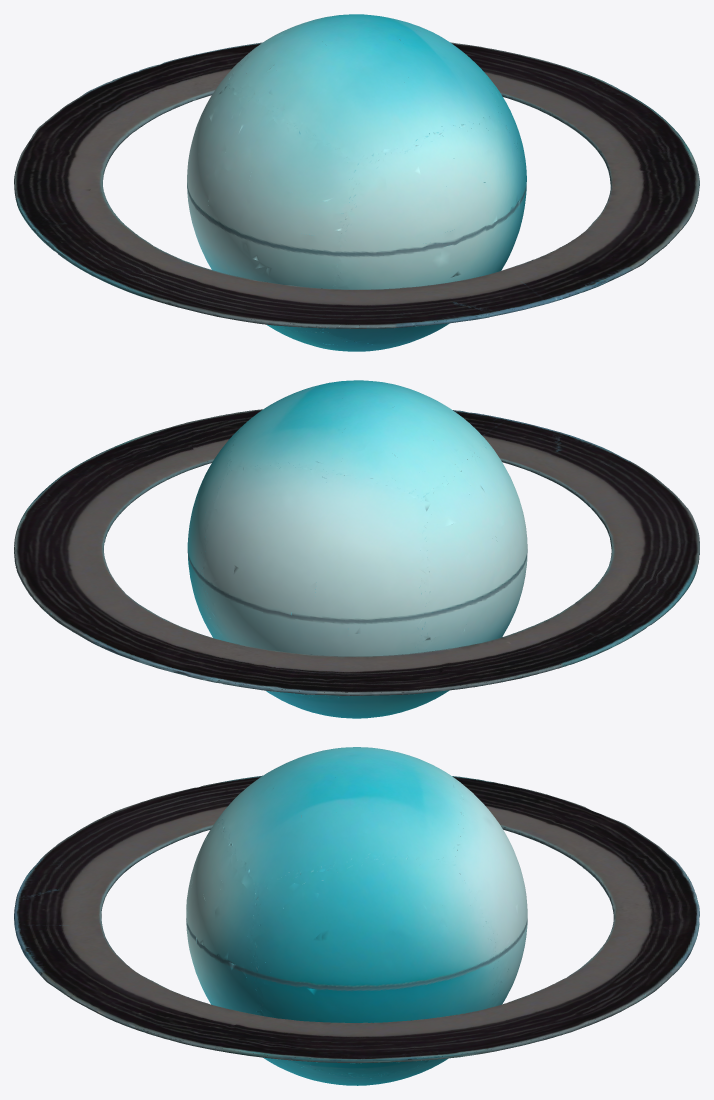
File: uranus(draco).glb
The picture shows the model from 3 angles, top to bottom: view 1: azimuth 30°, elevation 25°; view 2: azimuth 150°, elevation 25°; view 3: azimuth 270°, elevation 25°; orthographic projection.
Visible parts, largest first — view 1: Mesh_0.006; view 2: Mesh_0.006; view 3: Mesh_0.006.
Boxes of the visible parts, x1=… form: Mesh_0.006: x1=14, y1=14, x2=699, y2=351; Mesh_0.006: x1=14, y1=380, x2=699, y2=718; Mesh_0.006: x1=14, y1=747, x2=699, y2=1085.
Bounding box in the file's own units: 2 × 0.9872 × 2.
Materials: 1 (1 with a texture image).
